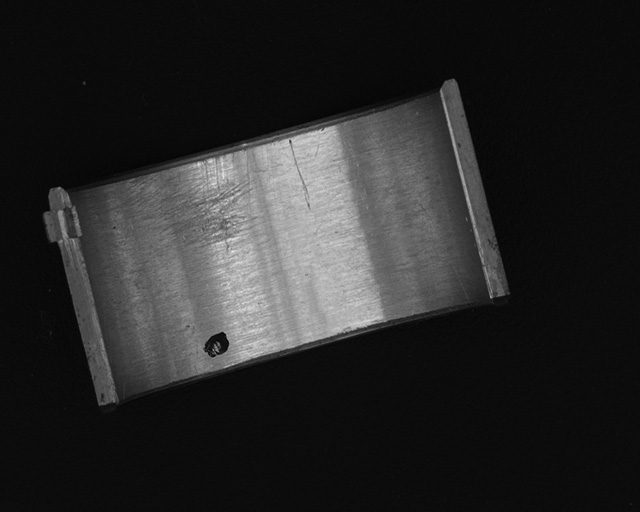blot: (203, 331, 230, 358)
nick: (417, 199, 470, 306), (289, 139, 313, 213)
scratch: (127, 146, 255, 251)
